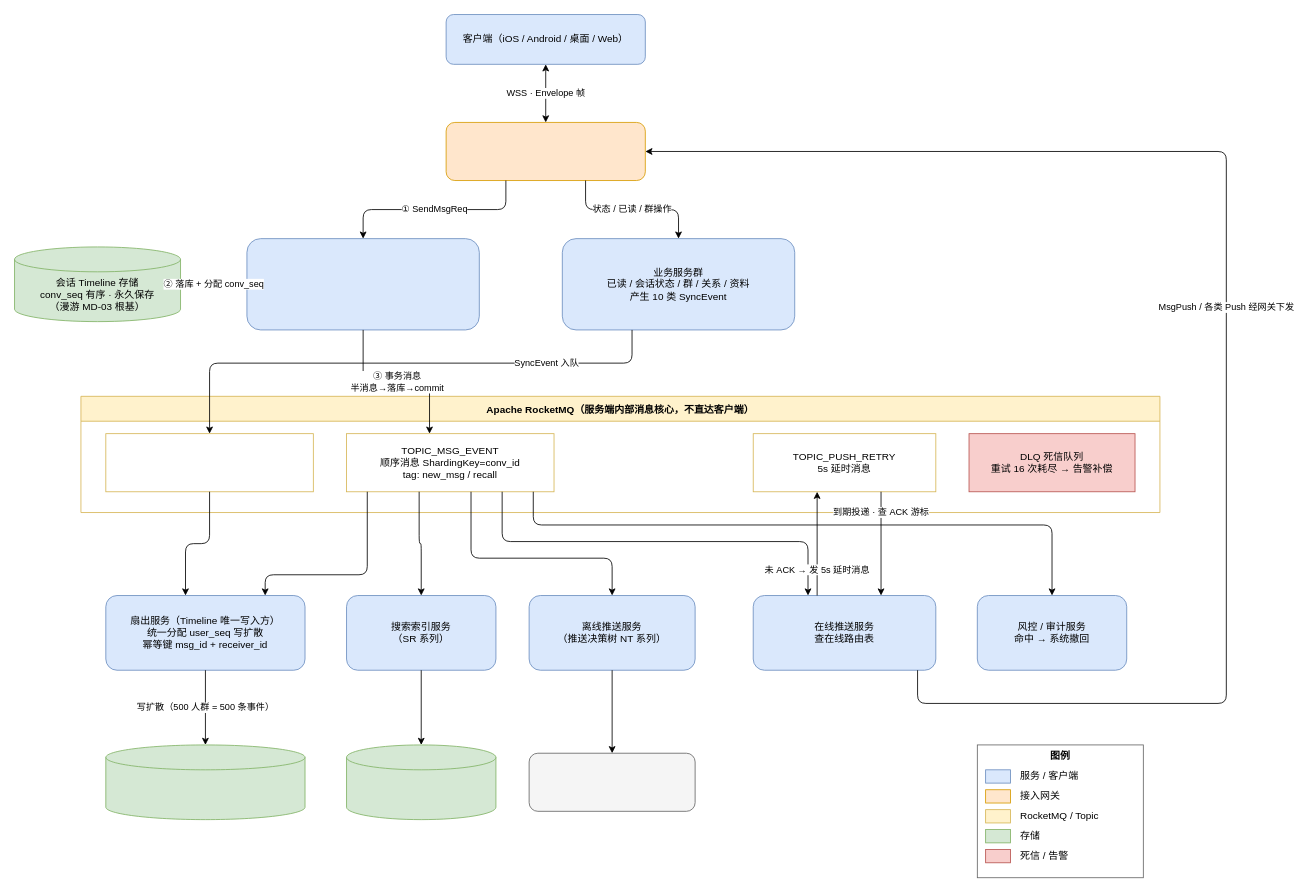
This 1308x892 diagram has some shape labels left out. The shapes that lost their labels are listed below. From the top down, each one's centre as x and y in pixels, then its label:
At [545,151]: "WS 长连接网关集群（无状态）".
At [362,284]: "消息服务（同步收单） ① client_msg_id 幂等检查 ② 分配 conv_seq，落会话 Timeline ③ 发 RocketMQ 事务消息".
At [209,462]: "TOPIC_SYNC_EVENT 状态类事件统一入口".
At [205,782]: "用户同步 Timeline 存储 user_seq · 30 天滚动窗口".
At [421,782]: "搜索索引库".
At [611,781]: "APNs / FCM / 厂商通道".
